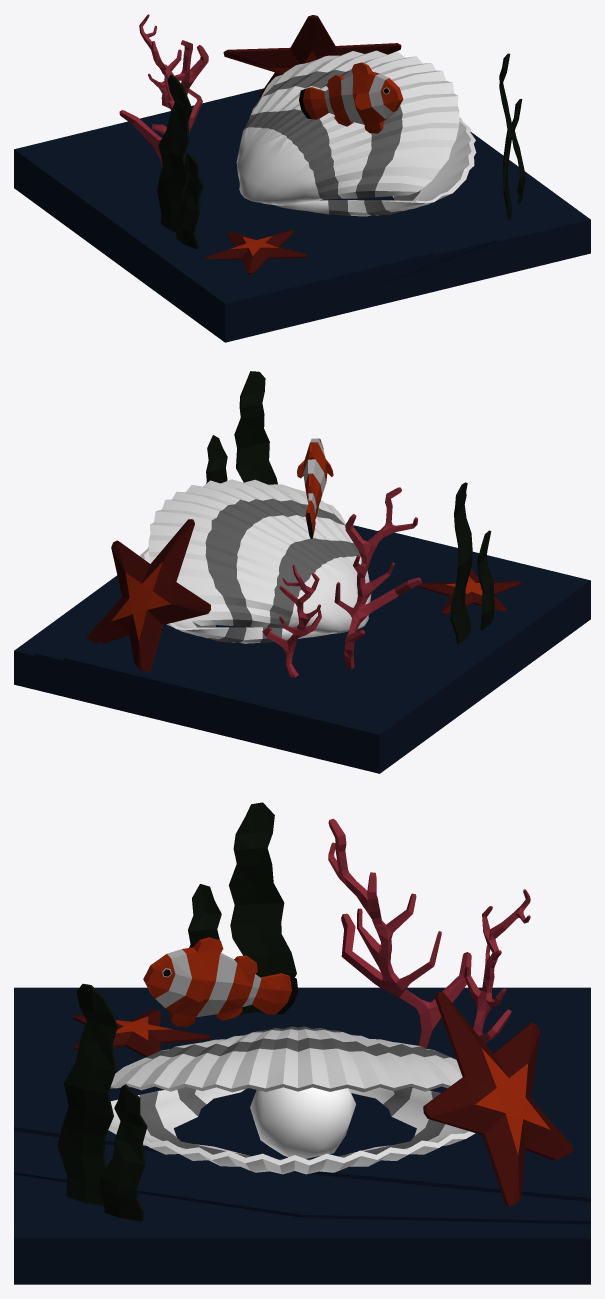
Rendered from W_O_Playground_SeaSymbolic_002_L1.fbx.
3 renders of one model, top to bottom at view 1: azimuth 30°, elevation 25°; view 2: azimuth 150°, elevation 25°; view 3: azimuth 270°, elevation 25°, orthographic. The views are drawn at different scales.
Visible parts, largest first — view 1: W_O_Playground_SeaSymbolic_002_L1; view 2: W_O_Playground_SeaSymbolic_002_L1; view 3: W_O_Playground_SeaSymbolic_002_L1.
Part boxes in pixels (x1,y1,x2,y2): W_O_Playground_SeaSymbolic_002_L1: [14, 14, 590, 342]; W_O_Playground_SeaSymbolic_002_L1: [14, 371, 590, 773]; W_O_Playground_SeaSymbolic_002_L1: [14, 802, 590, 1284].
Bounding box in the file's own units: 3 × 1.56 × 3.
